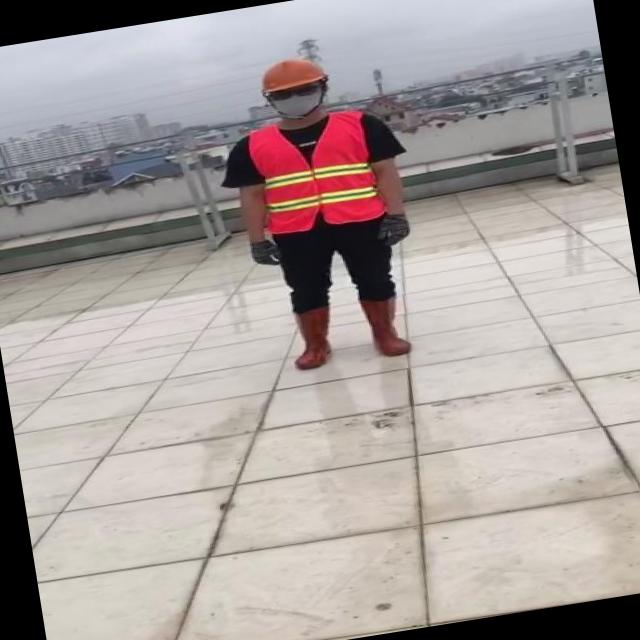boots: (356, 290, 418, 363), (286, 304, 341, 371)
gloves: (248, 238, 284, 273), (378, 212, 411, 245)
helmet: (250, 52, 328, 95)
vest: (248, 106, 384, 237)
